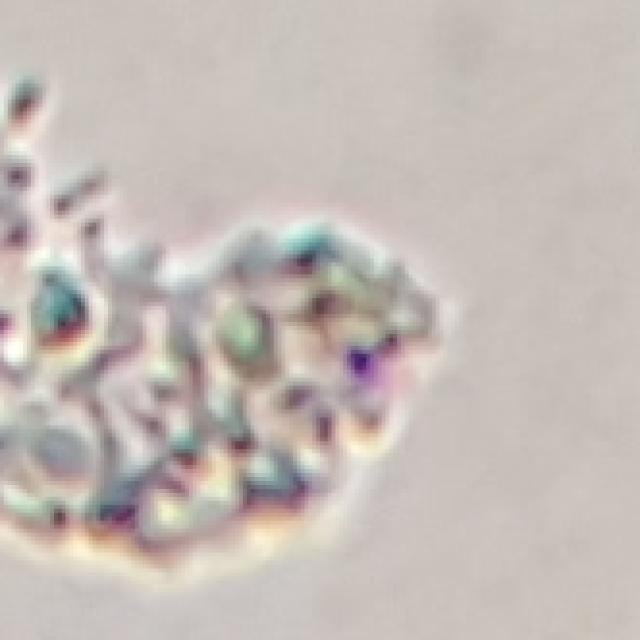non-sperm: (0, 205, 451, 583)
